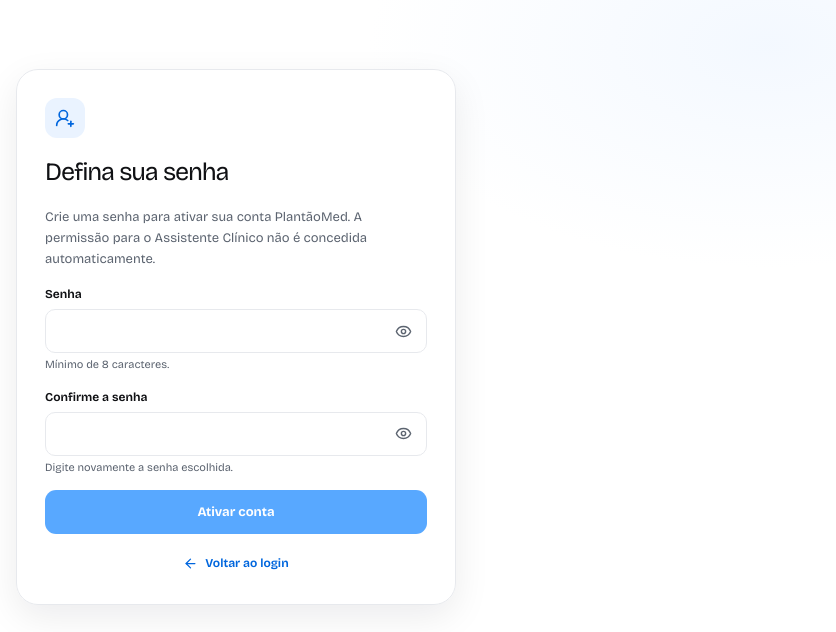
Test case: Netlify Identity invitation and password reset pages › shows a safe recovery path when accepting an invitation fails (expired)
Expected: the heading "Defina sua senha" is shown, [45,156,228,186]
Type "Synthetic-password-2026" into the password field labelled "Senha". click: (236, 331)
box: [45,309,427,353]
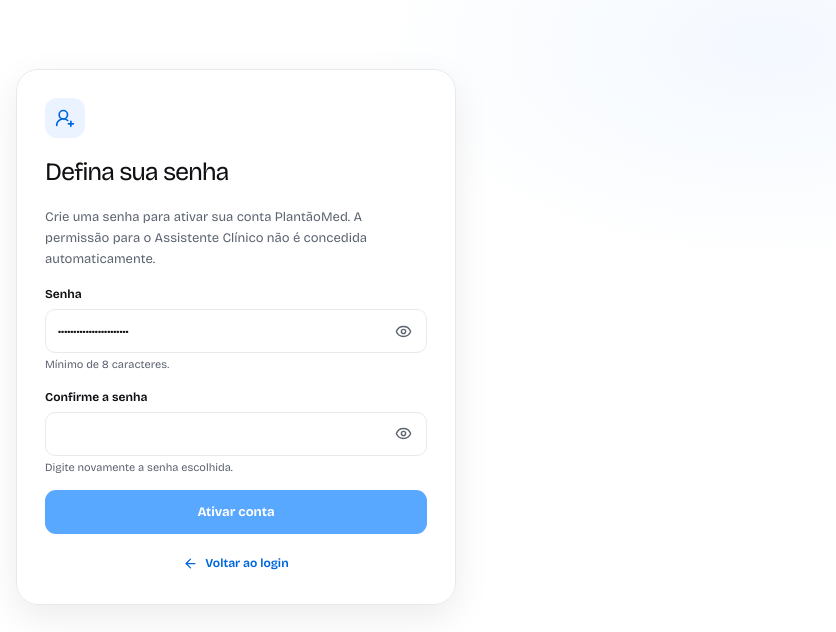
Type "Synthetic-password-2026" into the password field labelled "Confirme a senha". click: (236, 434)
box: [45,412,427,456]
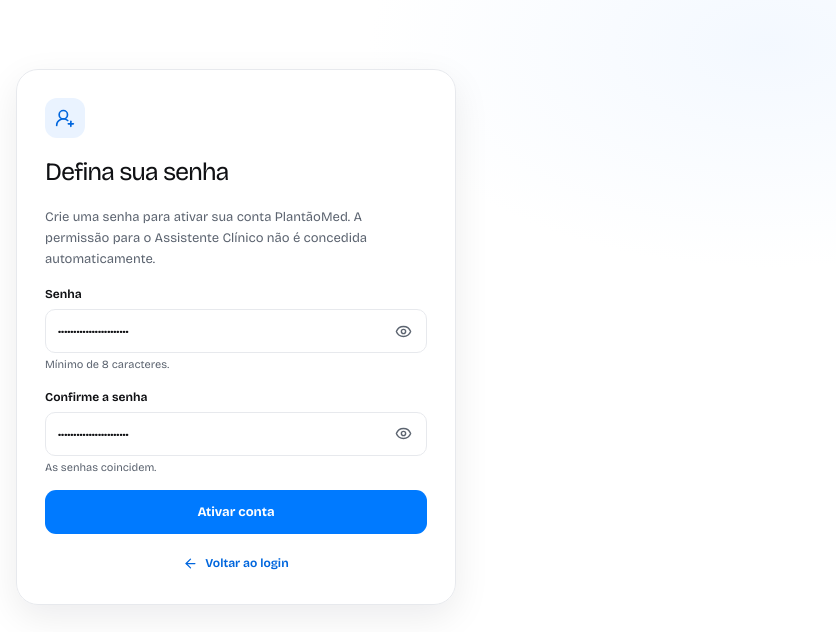
Click the button "Ativar conta". click: (236, 512)
box: [45,490,427,534]
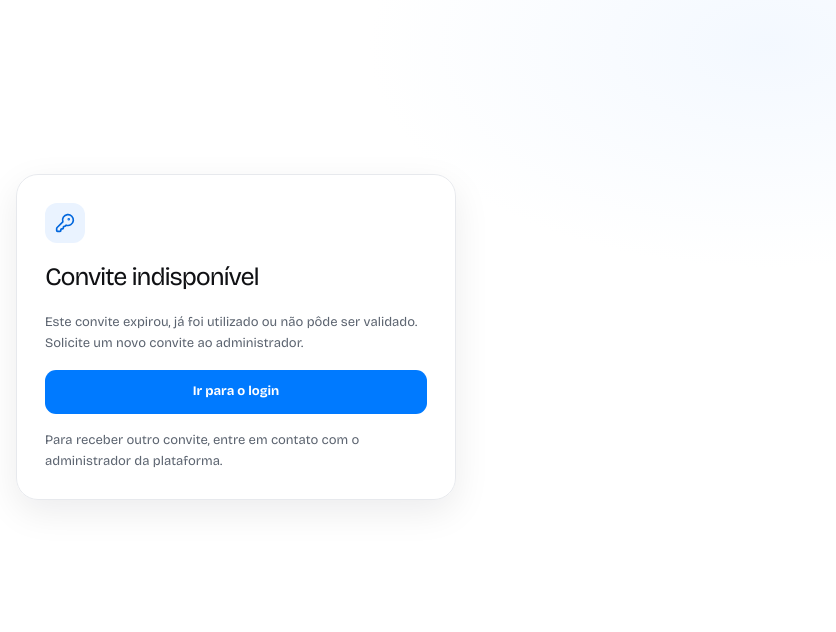
Result: the heading "Convite indisponível" is shown at [45,262,259,292]
Result: the message shows "Solicite um novo convite" at [45,314,417,351]
